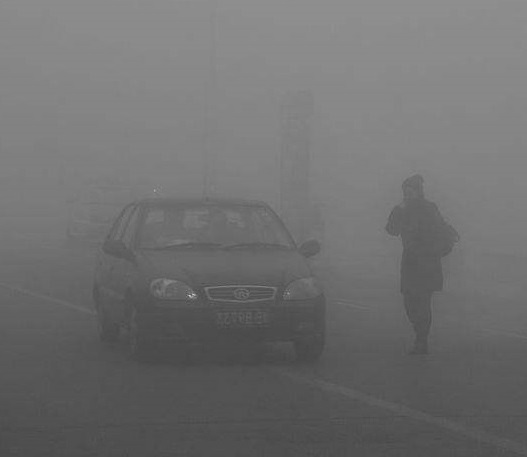person: (385, 173, 460, 357)
